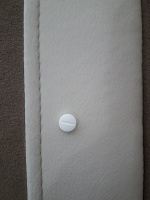Arveles: (58, 113, 78, 133)
